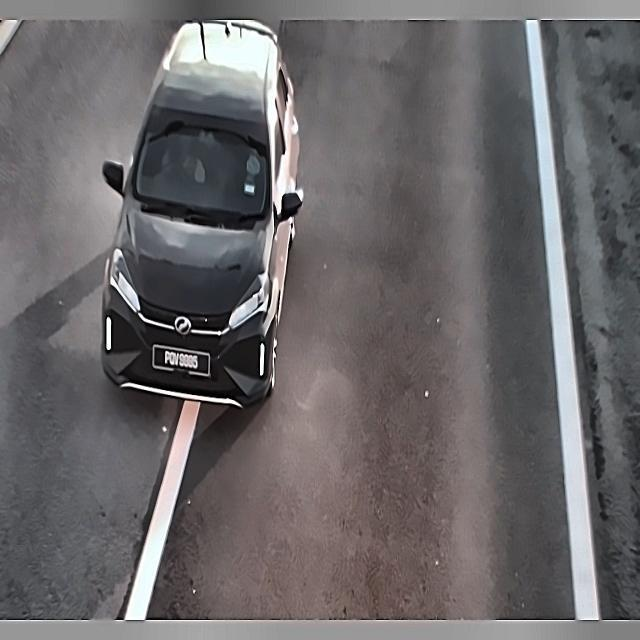car: (148, 340, 215, 383)
